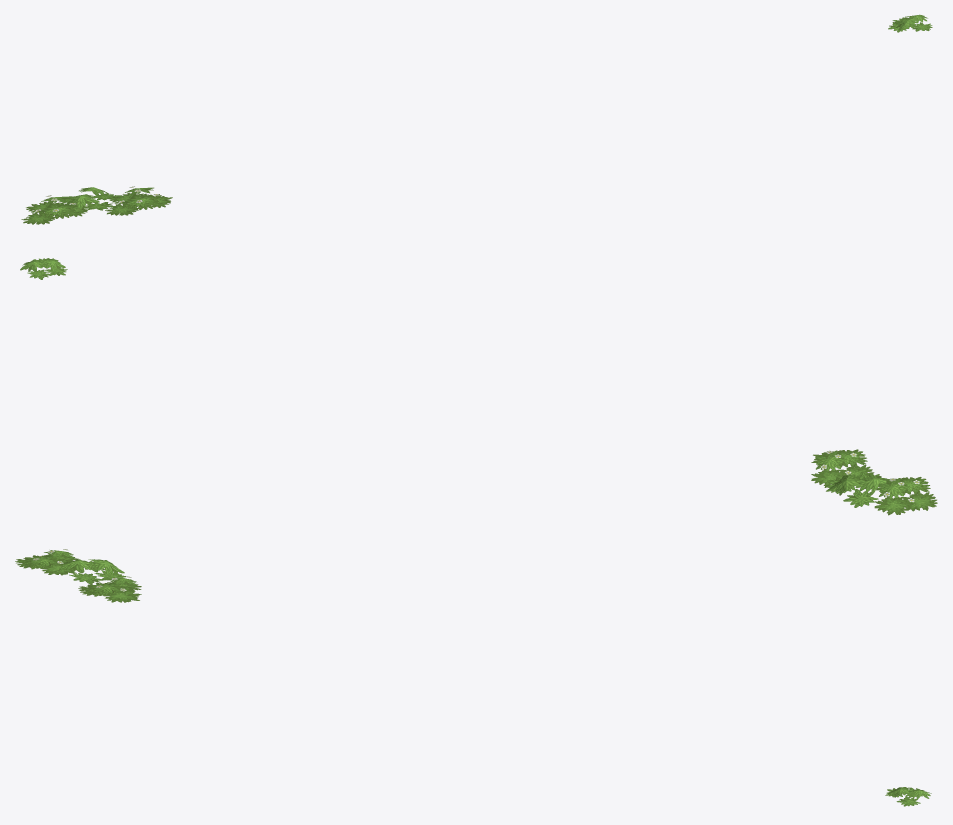
File: Area_10_37.fbx
3 views of the same model, one above another, from view 1: azimuth 30°, elevation 25°; view 2: azimuth 150°, elevation 25°; view 3: azimuth 330°, elevation 25° (orthographic). The views are drawn at different scales.
Parts seen in each view (by area): view 1: Area_10_37; view 2: Area_10_37; view 3: Area_10_37.
Boxes of the visible parts, x1,y1,x2,y2 form: Area_10_37: (21, 14, 932, 224); Area_10_37: (20, 258, 937, 515); Area_10_37: (15, 549, 931, 806).
Bounding box in the file's own units: 4793 × 99.17 × 529.
